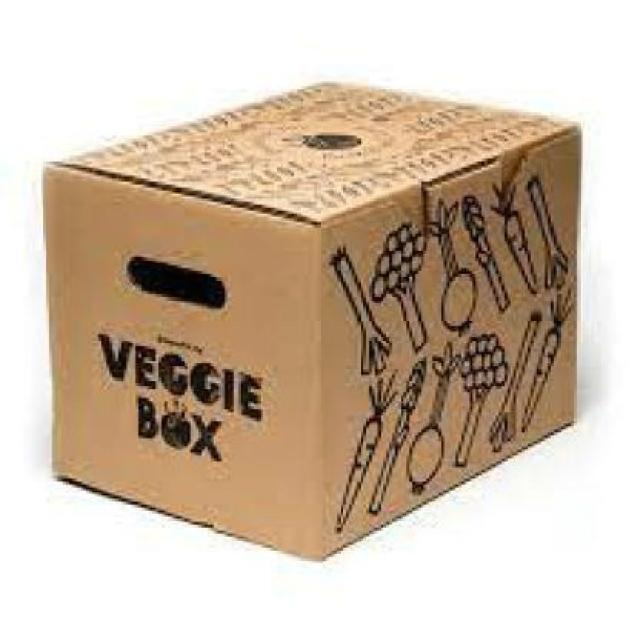-: (44, 75, 579, 563)
